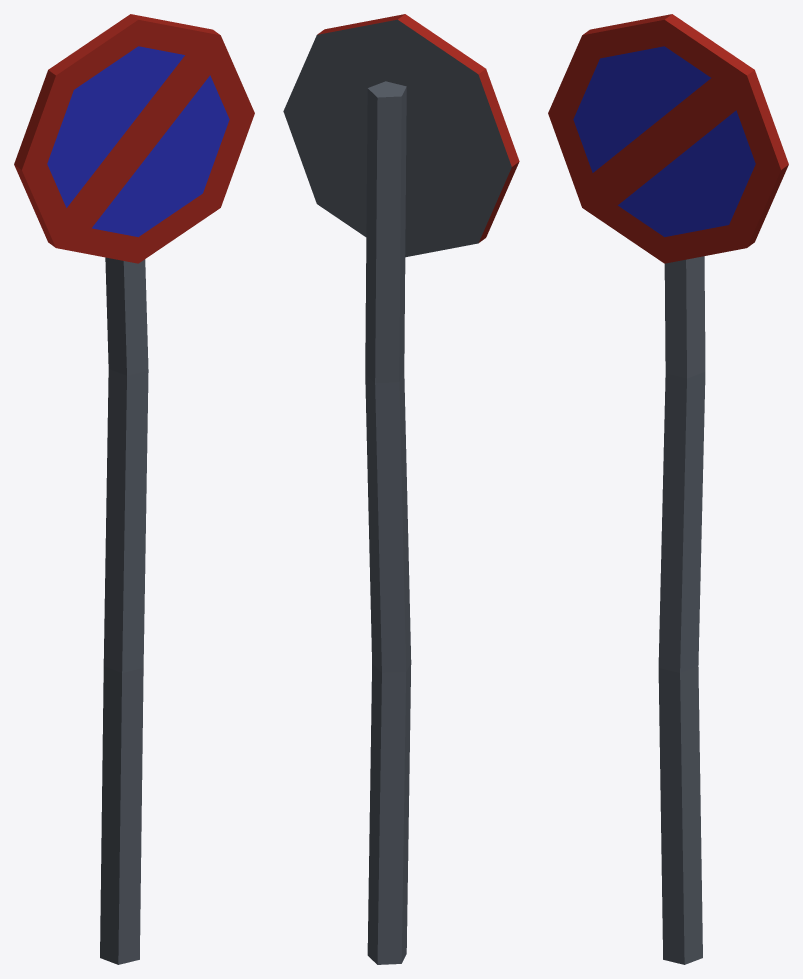
The model's file is RoadSign1.fbx.
The picture shows the model from 3 angles, left to right: view 1: azimuth 30°, elevation 25°; view 2: azimuth 150°, elevation 25°; view 3: azimuth 330°, elevation 25°; orthographic projection. The views are drawn at different scales.
Visible parts, largest first — view 1: RoadSign1; view 2: RoadSign1; view 3: RoadSign1.
Part boxes in pixels (x1,y1,x2,y2): RoadSign1: [14, 14, 254, 964]; RoadSign1: [283, 14, 519, 964]; RoadSign1: [548, 14, 788, 964].
Size of the model in its own units: 36.92 by 144 by 7.79.
